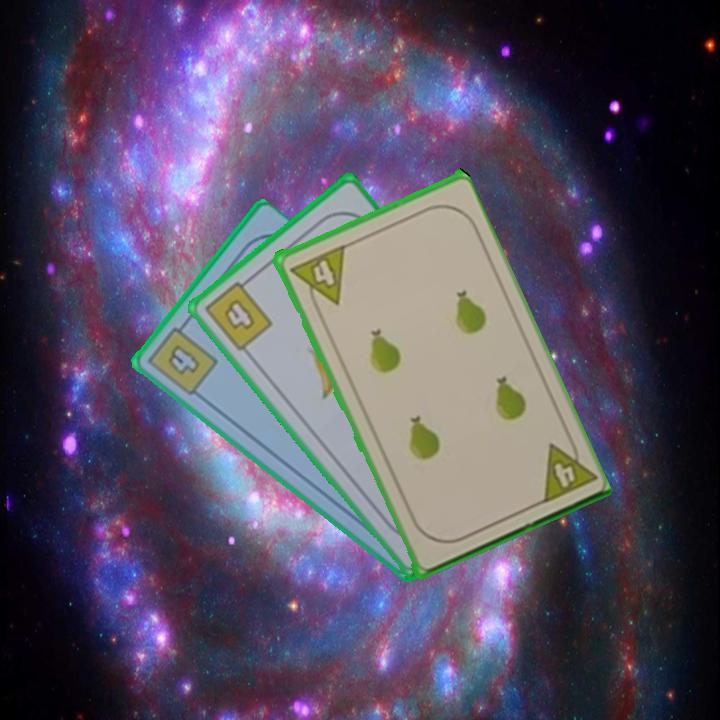4b: (144, 317, 221, 399), (200, 273, 276, 354)
4p: (535, 431, 597, 507), (285, 241, 348, 314)
